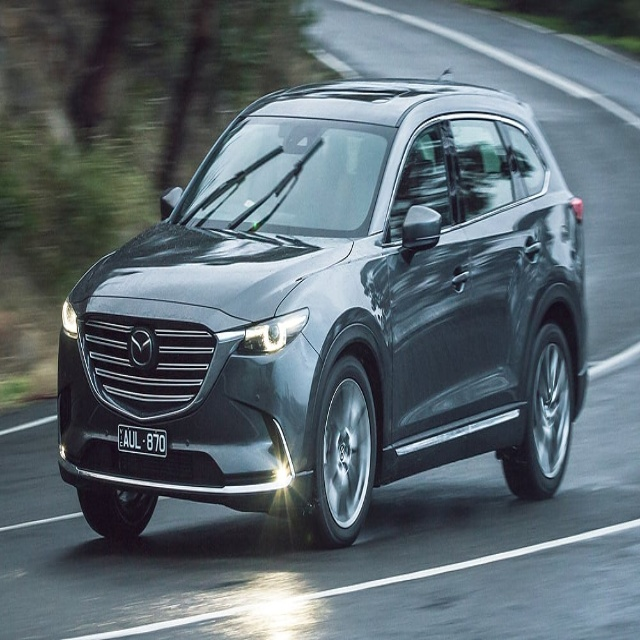Car: (58, 79, 589, 548)
